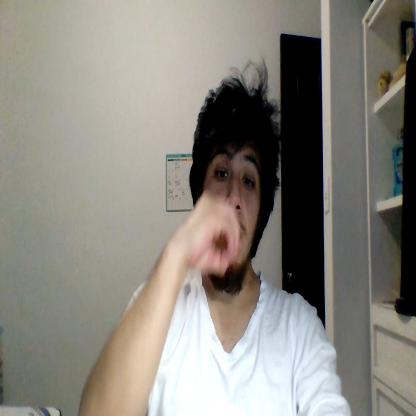O: (188, 192, 240, 274)
